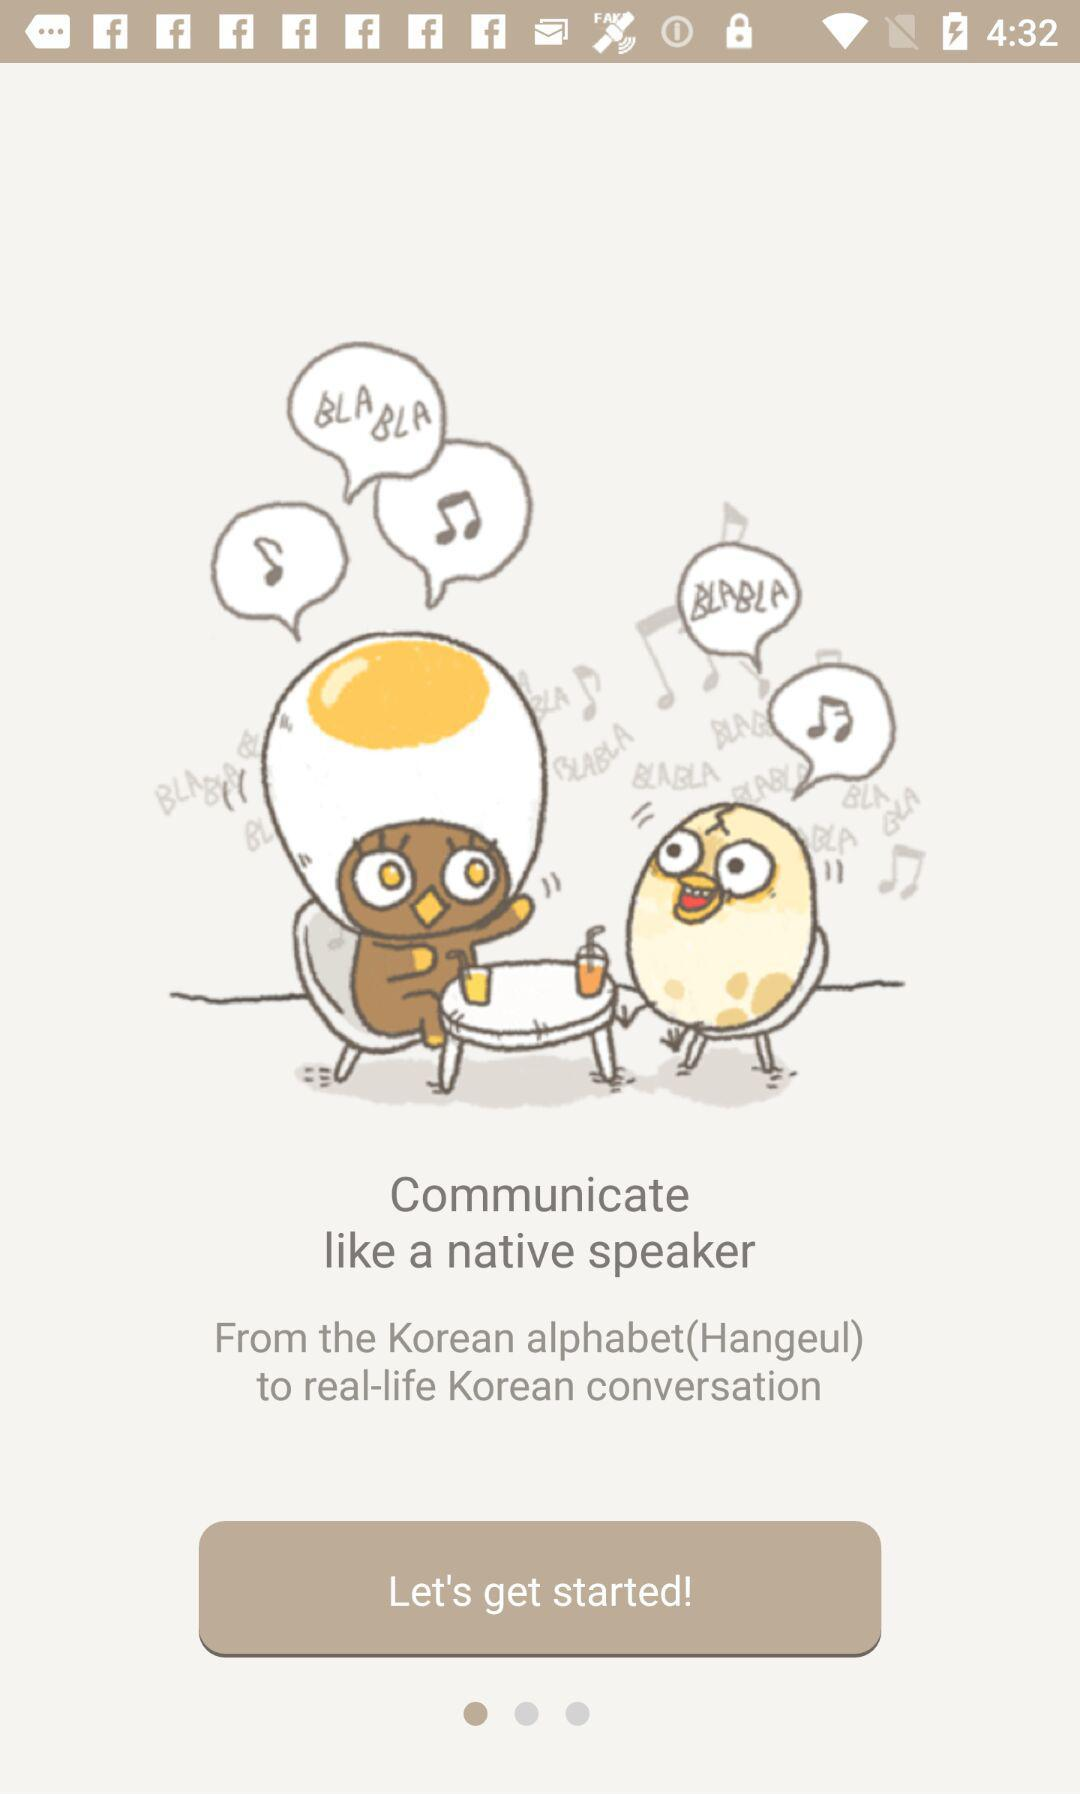Image: (150, 340, 925, 1112)
PageIndicator: (462, 1700, 592, 1727)
Text: (217, 1319, 863, 1402), (325, 1175, 757, 1280)
TextButton: (199, 1520, 881, 1658)
UpperTaskBar: (1, 1, 1080, 64)
